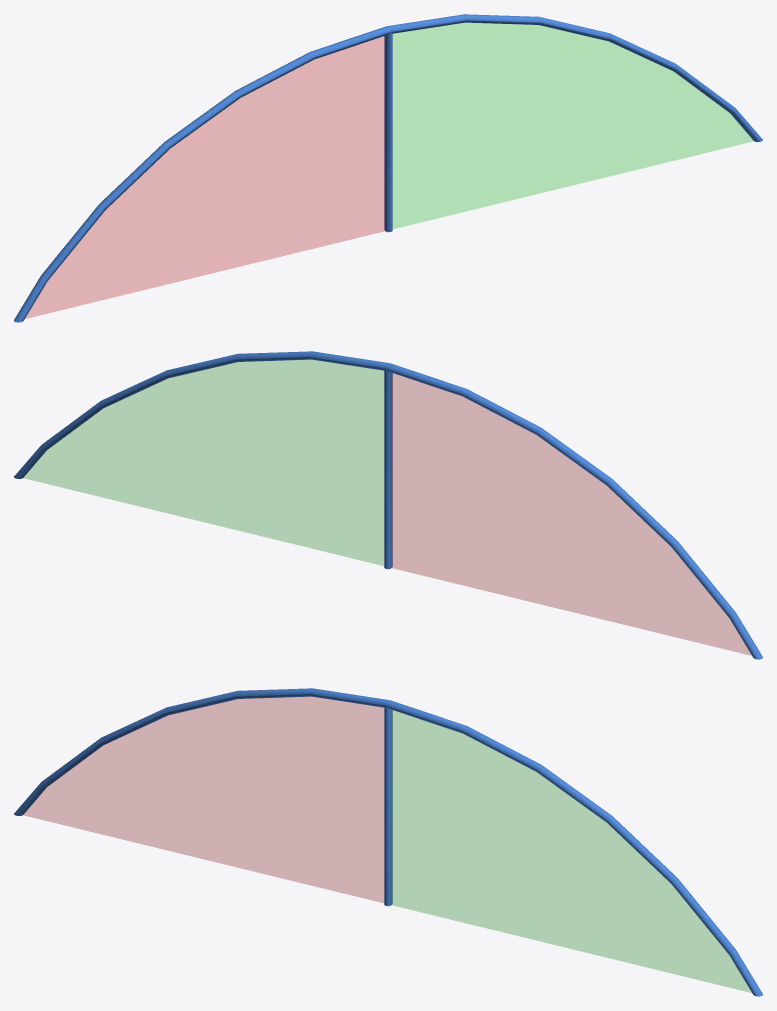
Rendered from Transparent Gate (1).fbx.
The picture shows the model from 3 angles, top to bottom: view 1: azimuth 30°, elevation 25°; view 2: azimuth 150°, elevation 25°; view 3: azimuth 330°, elevation 25°; orthographic projection.
Visible parts, largest first — view 1: Transparent_1, Transparen_2, Irons; view 2: Transparent_1, Transparen_2, Irons; view 3: Transparen_2, Transparent_1, Irons.
Part boxes in pixels (x1,y1,x2,y2): Transparent_1: [393, 23, 753, 228]; Transparen_2: [25, 36, 384, 318]; Irons: [14, 14, 762, 322]; Transparent_1: [23, 360, 383, 565]; Transparen_2: [392, 373, 751, 655]; Irons: [14, 351, 762, 659]; Transparen_2: [23, 697, 383, 902]; Transparent_1: [392, 710, 751, 992]; Irons: [14, 688, 762, 996].
Bounding box in the file's own units: 643 × 167 × 6.64.
